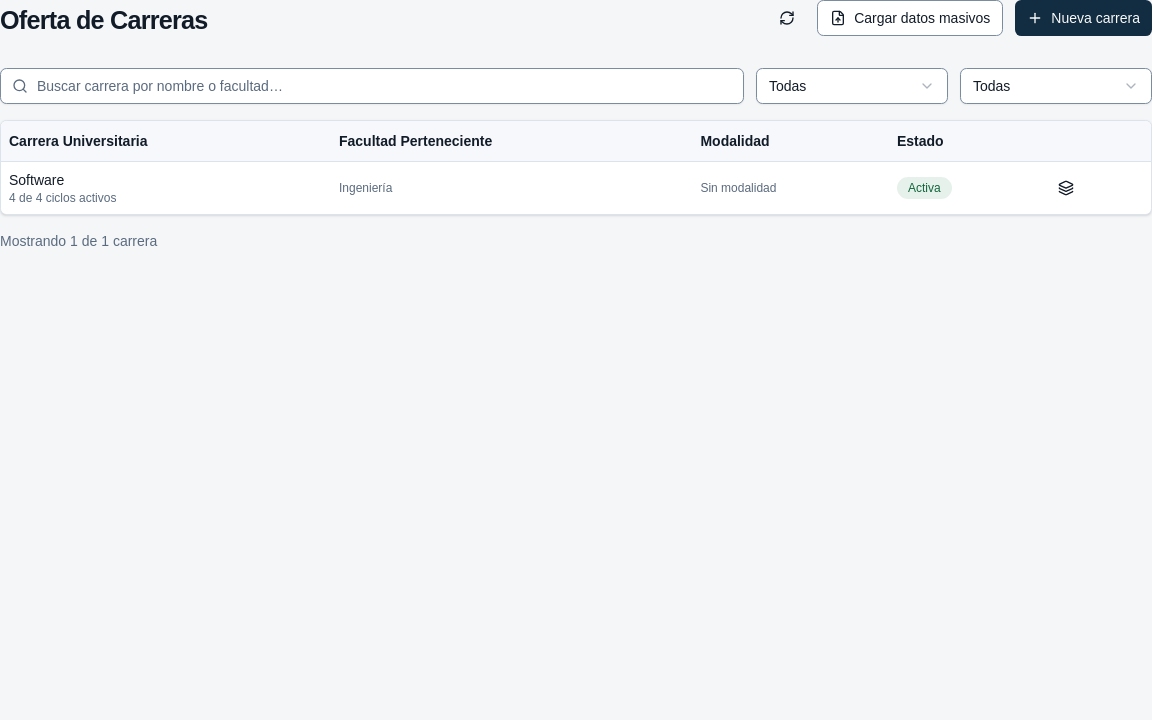
Test: Gestión de ciclos › no muestra el campo número al registrar o editar un ciclo
This screenshot has width=1152, height=720.
Click the button named "Ver ciclos de Software".
click(1066, 188)  # box x1=1048 y1=170 x2=1084 y2=206
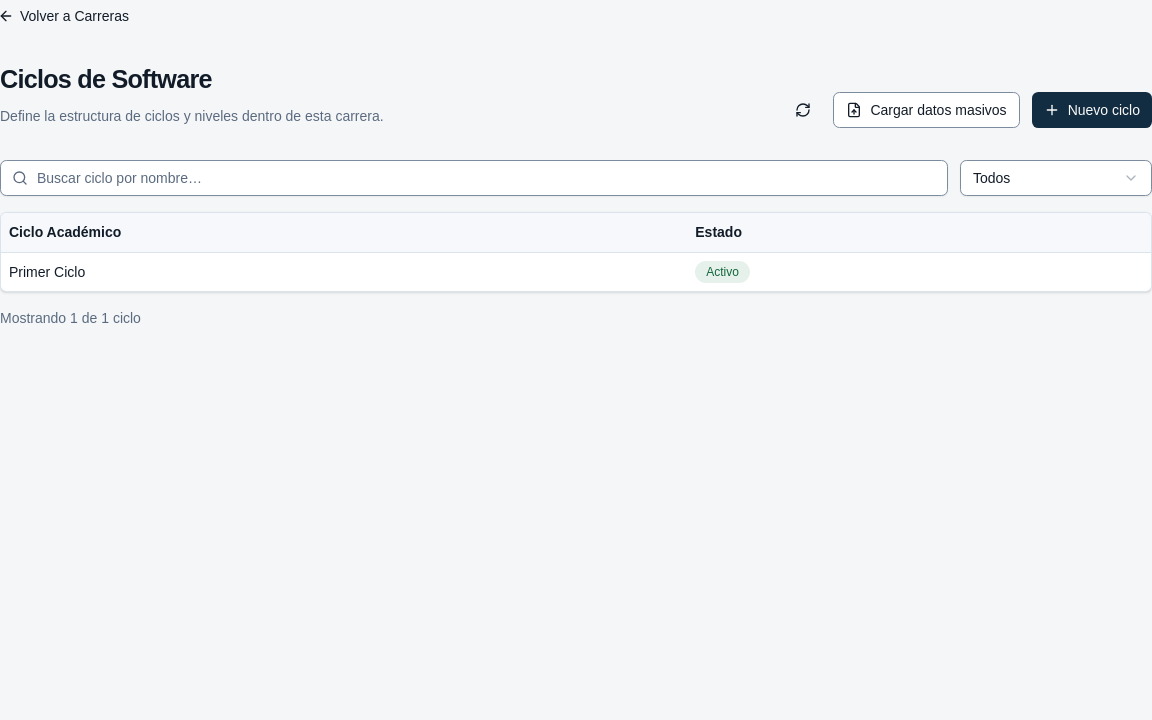
Click the button "Nuevo ciclo".
click(1092, 110)  # box x1=1032 y1=92 x2=1151 y2=128
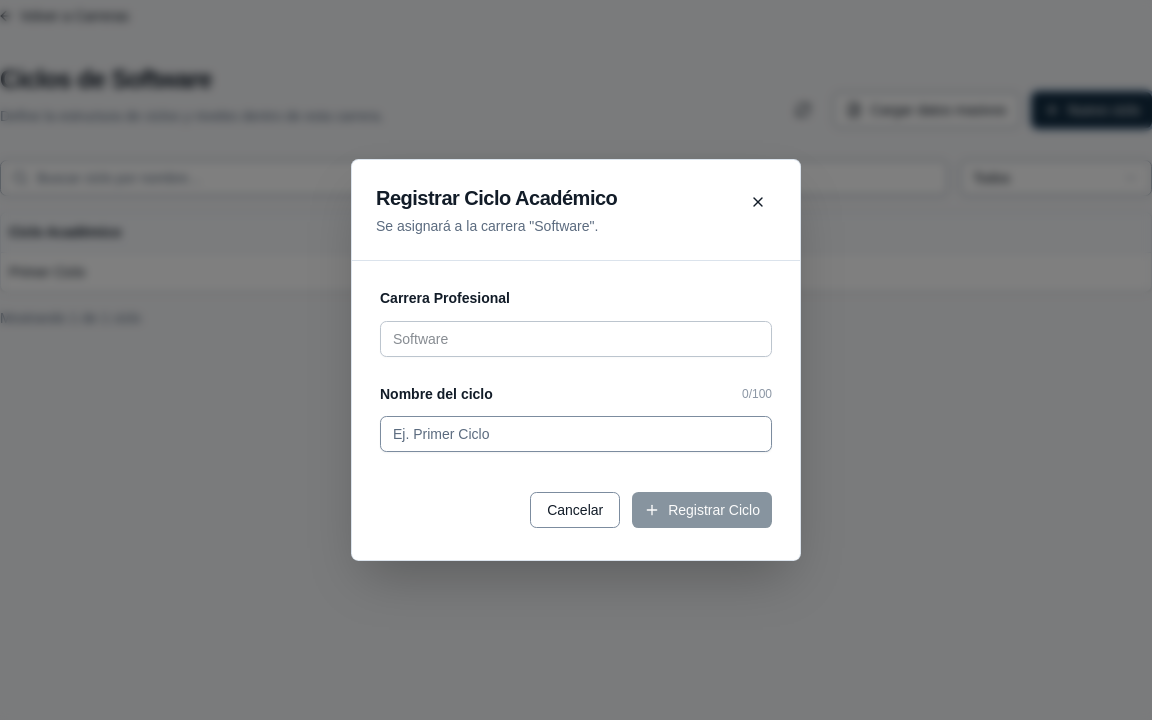
Check: the field labelled "Nombre del ciclo" is shown, box x1=380 y1=416 x2=772 y2=452
